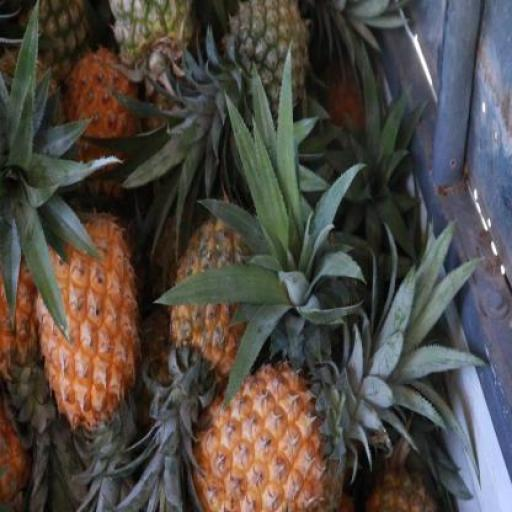Pineapple - v8 v1: (35, 208, 147, 434), (182, 358, 324, 511)
